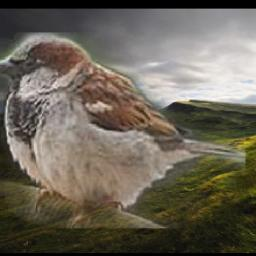Sparrow: (0, 33, 247, 229)
